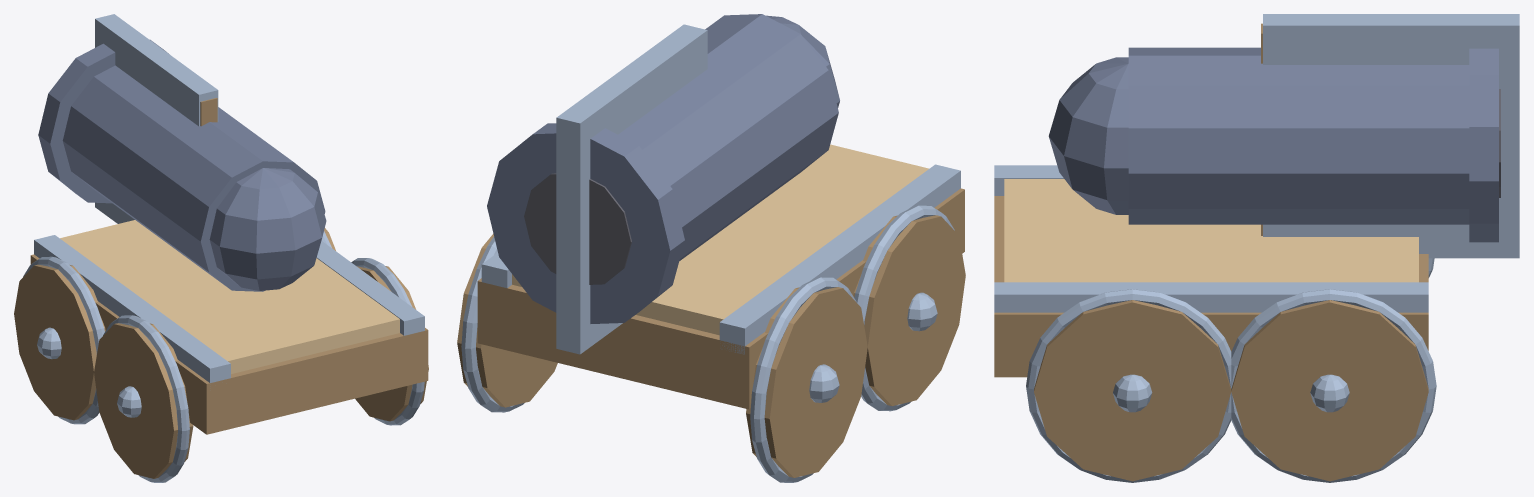
File: cannon_cart.glb
3 views of the same model, side by side, from view 1: azimuth 30°, elevation 25°; view 2: azimuth 150°, elevation 25°; view 3: azimuth 270°, elevation 25° (orthographic). The views are drawn at different scales.
Parts seen in each view (by area): view 1: cannon_cart; view 2: cannon_cart; view 3: cannon_cart.
Boxes of the visible parts, <box> form: cannon_cart: <box>14,14,428,482</box>; cannon_cart: <box>457,14,965,482</box>; cannon_cart: <box>994,14,1519,482</box>.
Bounding box in the file's own units: 2.05 × 2.19 × 2.66.
